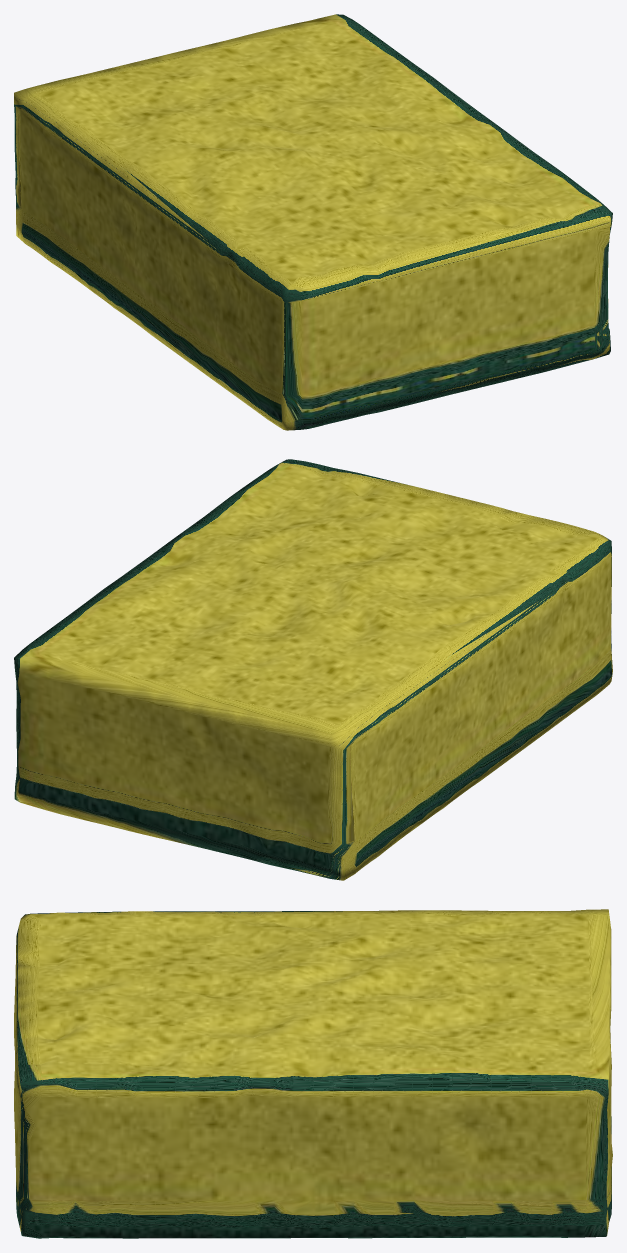
File: cleaning_sponge_b01.glb
The picture shows the model from 3 angles, top to bottom: view 1: azimuth 30°, elevation 25°; view 2: azimuth 150°, elevation 25°; view 3: azimuth 270°, elevation 25°; orthographic projection. The views are drawn at different scales.
Visible parts, largest first — view 1: prop; view 2: prop; view 3: prop.
Boxes of the visible parts, x1,y1,x2,y2 form: prop: (14,14,612,430); prop: (14,459,612,880); prop: (14,909,612,1238).
Bounding box in the file's own units: 0.4085 × 0.1904 × 0.5814.
1 material, 1 textured.
